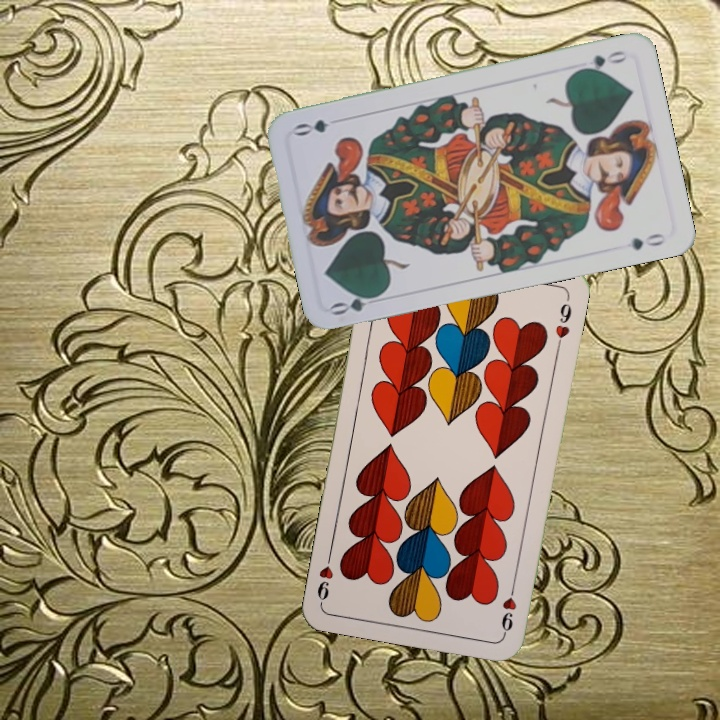GO: (327, 289, 387, 318), (573, 46, 630, 74)
H9: (497, 578, 519, 637)
